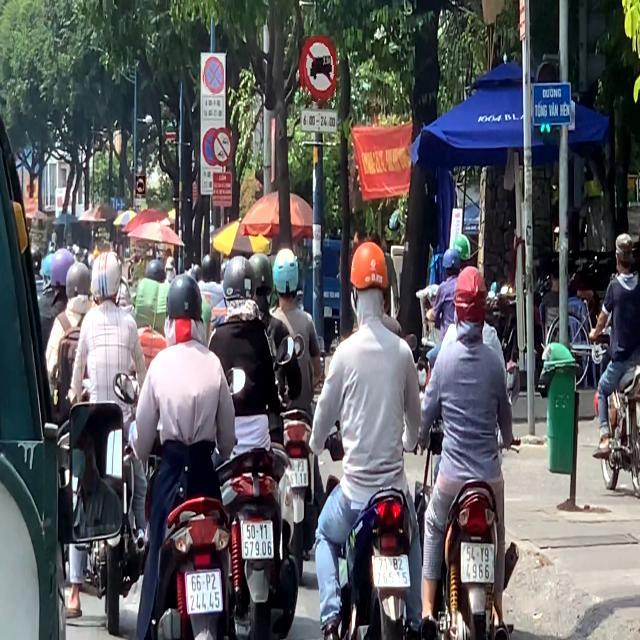P-106b: (300, 36, 338, 102)
P-130: (202, 56, 224, 94), (136, 176, 145, 194)
